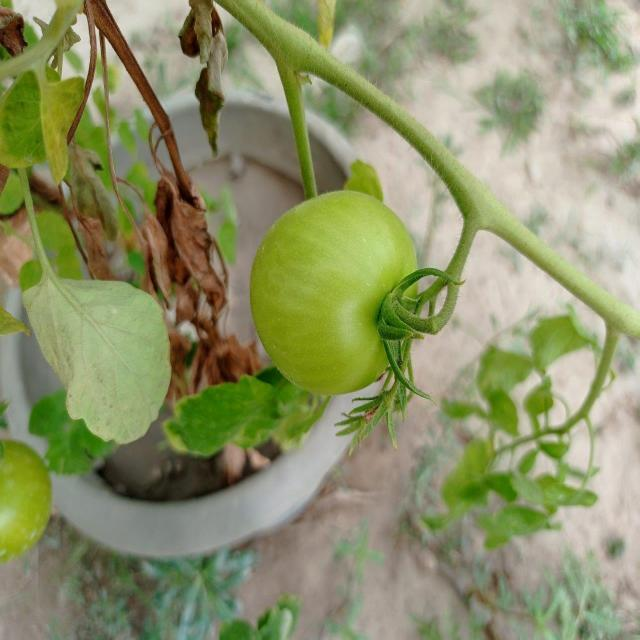Unripe: (249, 188, 419, 395)
